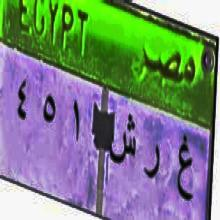1: (67, 94, 84, 150)
4: (14, 72, 29, 130)
5: (39, 87, 57, 136)
ghayn: (173, 126, 196, 212)
raa: (142, 140, 160, 195)
sheen: (108, 111, 136, 173)
